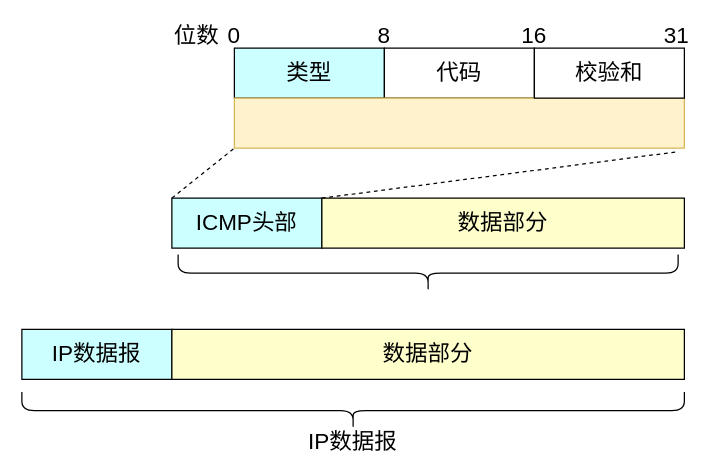
Image size: 724x476. Some labels were removed from this diagram. Each missing label, with the box of its shape:
ICMP报文: (177, 253, 678, 292)
参数: (233, 97, 684, 148)
